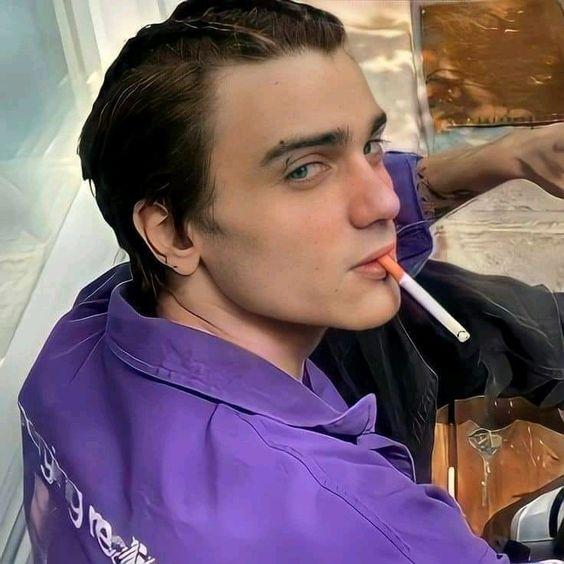cigarette: (376, 254, 471, 343)
